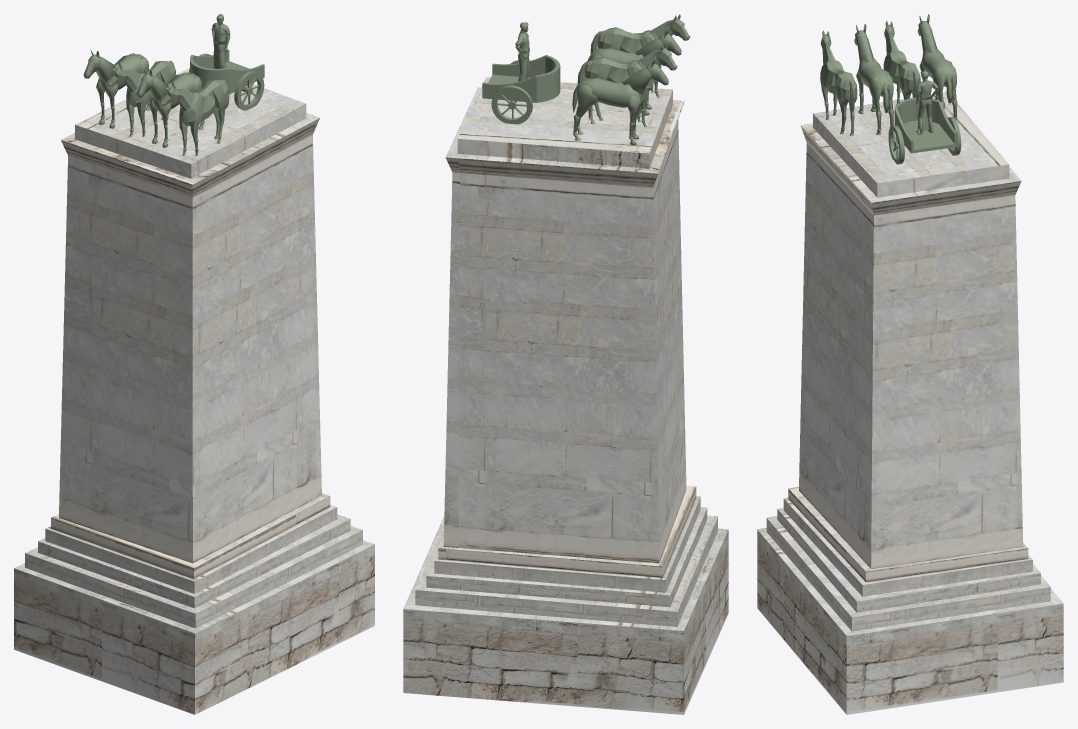
Rendered from tethrippon.fbx.
The picture shows the model from 3 angles, left to right: view 1: azimuth 30°, elevation 25°; view 2: azimuth 150°, elevation 25°; view 3: azimuth 270°, elevation 25°; orthographic projection. The views are drawn at different scales.
Visible parts, largest first — view 1: Group1, Group2; view 2: Group1, Group2; view 3: Group1, Group2.
Boxes of the visible parts, box(x1,y1,x2,y2) form: Group1: box(14, 68, 374, 714); Group2: box(83, 14, 264, 156); Group1: box(403, 77, 728, 714); Group2: box(482, 14, 690, 145); Group1: box(757, 91, 1063, 714); Group2: box(820, 14, 961, 164).
Bounding box in the file's own units: 6707 × 13238 × 6236.
